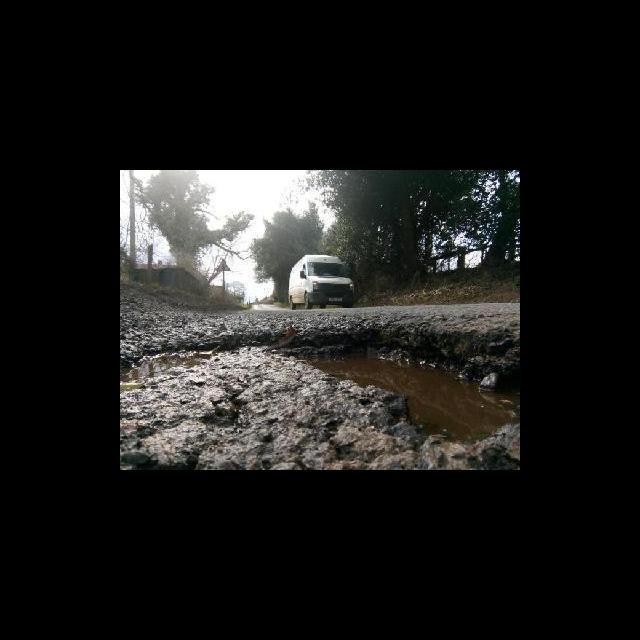lubang_kecil: (120, 318, 520, 470)
